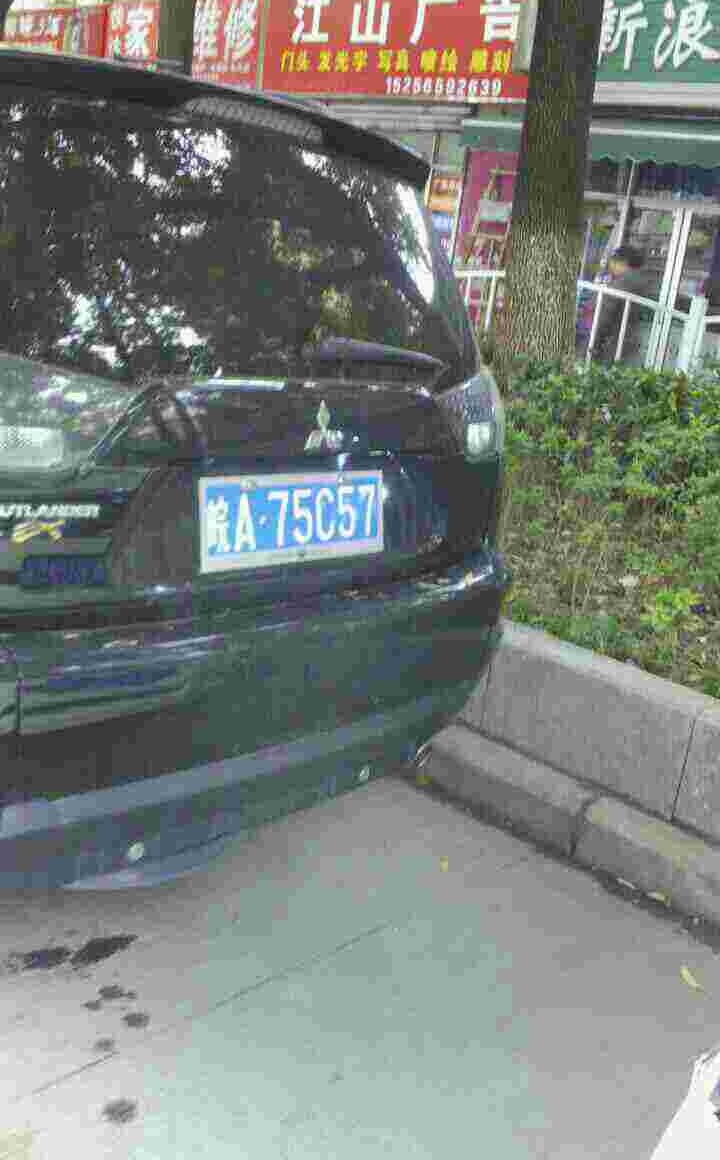car: (203, 478, 386, 556)
